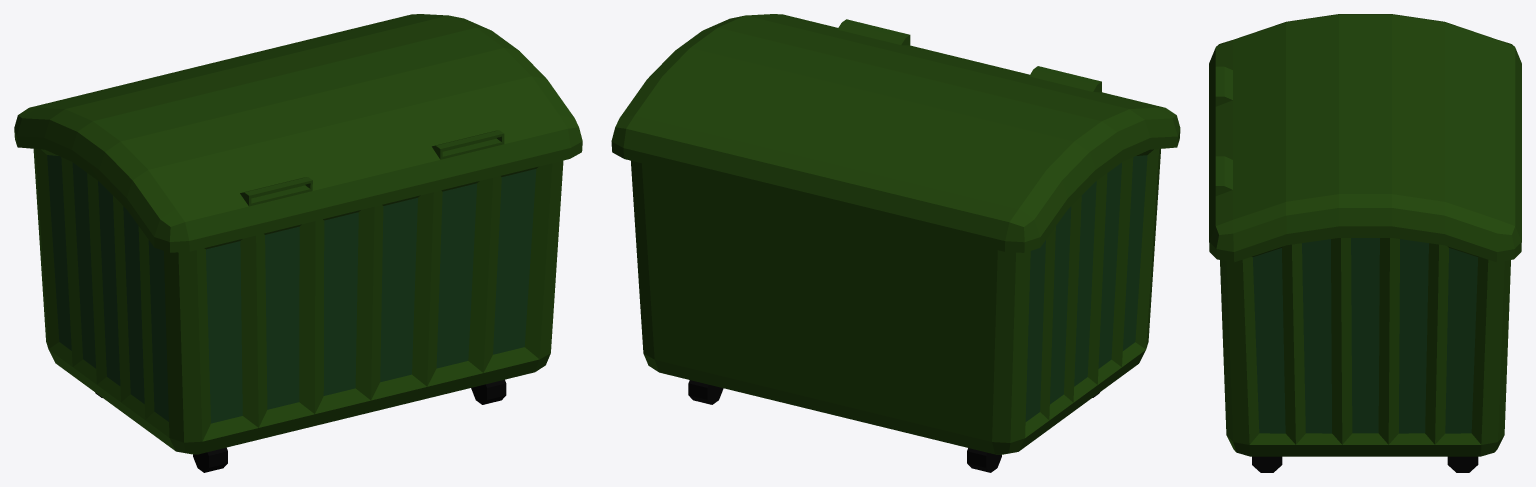
File: Dumpster.fbx
3 views of the same model, side by side, from view 1: azimuth 30°, elevation 25°; view 2: azimuth 150°, elevation 25°; view 3: azimuth 270°, elevation 25° (orthographic). The views are drawn at different scales.
Visible parts, largest first — view 1: Dumpster; view 2: Dumpster; view 3: Dumpster.
Boxes of the visible parts, x1,y1,x2,y2 form: Dumpster: (14,14,582,472); Dumpster: (611,14,1180,472); Dumpster: (1209,14,1521,472).
Size of the model in its own units: 857 by 600 by 568.
